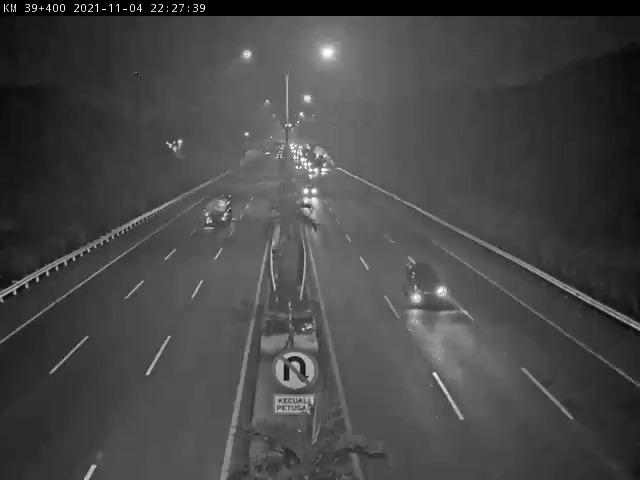car: (403, 255, 446, 311)
mid truck: (202, 195, 232, 227)
